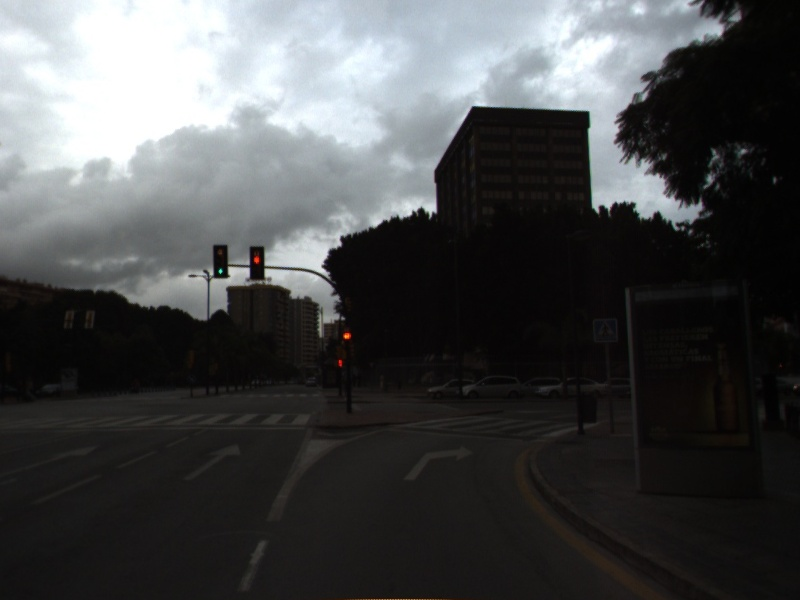RIGHT: (401, 443, 477, 483)
STRAIGHT: (1, 444, 101, 477), (181, 441, 242, 482)
